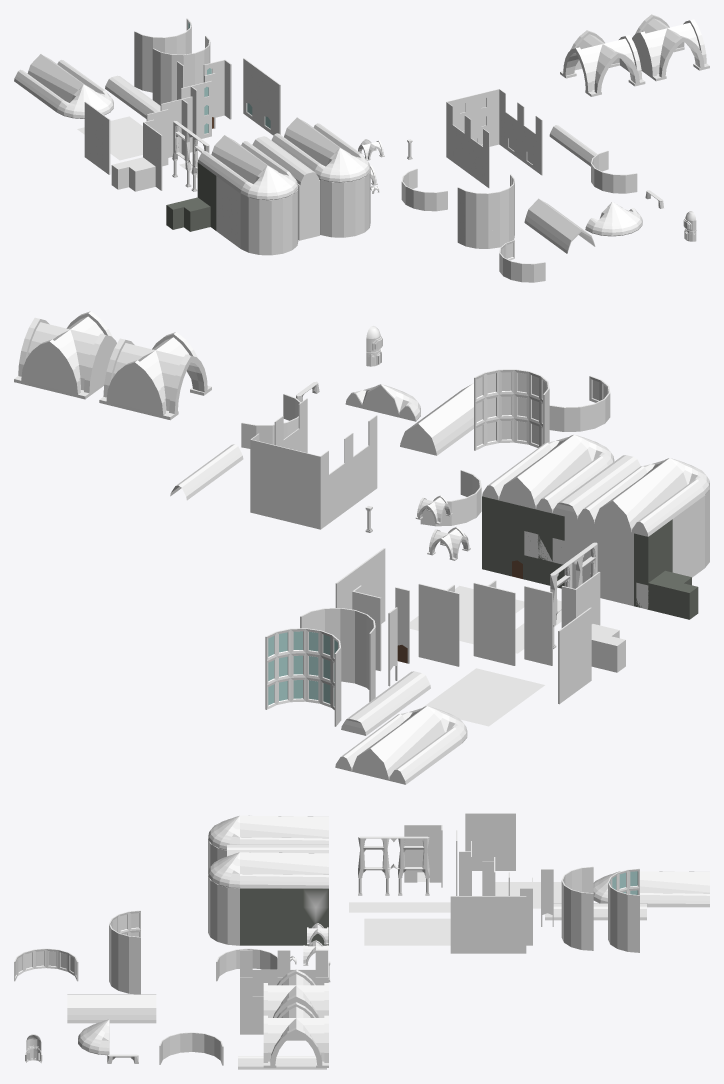
The model's file is kerk 2.fbx.
3 renders of one model, top to bottom at view 1: azimuth 30°, elevation 25°; view 2: azimuth 150°, elevation 25°; view 3: azimuth 270°, elevation 25°, orthographic. The views are drawn at different scales.
Parts seen in each view (by area): view 1: Circle.011, Circle.005, Circle.002, Cube.163, Cylinder.015, Cylinder.016, Cube.093, Cube.052, Cube.054, Cube.058, Cube.084, Cube.056 (+19 smaller); view 2: Cylinder.016, Cylinder.015, Circle.005, Circle.011, Cube.056, Circle.002, Cube.084, Plane.005, Cube.054, Cube.042, Cube.046, Cube.052 (+25 smaller); view 3: Cube.058, Cube.090, Circle.002, Circle.011, Circle.005, Cylinder.016, Cube.057, Circle.010, Cube.054, Cube.056, Plane.003, Cylinder.015 (+19 smaller).
Part boxes in pixels (<box>): Circle.011: <box>198,135,297,200</box>; Circle.005: <box>14,54,113,118</box>; Circle.002: <box>271,117,370,182</box>; Cube.163: <box>240,185,298,255</box>; Cylinder.015: <box>560,30,645,96</box>; Cylinder.016: <box>632,14,709,81</box>; Cube.093: <box>319,168,370,237</box>; Cube.052: <box>111,119,162,191</box>; Cube.054: <box>152,36,210,105</box>; Cube.058: <box>243,58,280,135</box>; Cube.084: <box>166,162,216,231</box>; Cube.056: <box>134,18,191,92</box>; Cylinder.016: <box>14,311,116,399</box>; Cylinder.015: <box>99,332,211,420</box>; Circle.005: <box>335,706,467,784</box>; Circle.011: <box>578,458,709,536</box>; Cube.056: <box>265,628,341,726</box>; Circle.002: <box>482,434,614,513</box>; Cube.084: <box>634,519,698,619</box>; Plane.005: <box>422,668,544,726</box>; Cube.054: <box>300,608,375,701</box>; Cube.042: <box>473,580,515,665</box>; Cube.046: <box>418,583,459,666</box>; Cube.052: <box>561,572,625,672</box>; Cube.058: <box>450,896,526,953</box>; Cube.090: <box>240,888,315,945</box>; Circle.002: <box>208,852,328,888</box>; Circle.011: <box>208,815,328,850</box>; Circle.005: <box>593,871,709,907</box>; Cylinder.016: <box>263,1002,328,1067</box>; Cube.057: <box>465,813,515,870</box>; Circle.010: <box>67,994,156,1023</box>; Cube.054: <box>561,866,593,950</box>; Cube.056: <box>608,868,639,952</box>; Plane.003: <box>364,918,450,945</box>; Cylinder.015: <box>263,969,328,1017</box>.
Bounding box in the file's own units: 29114 × 5231 × 33060.
